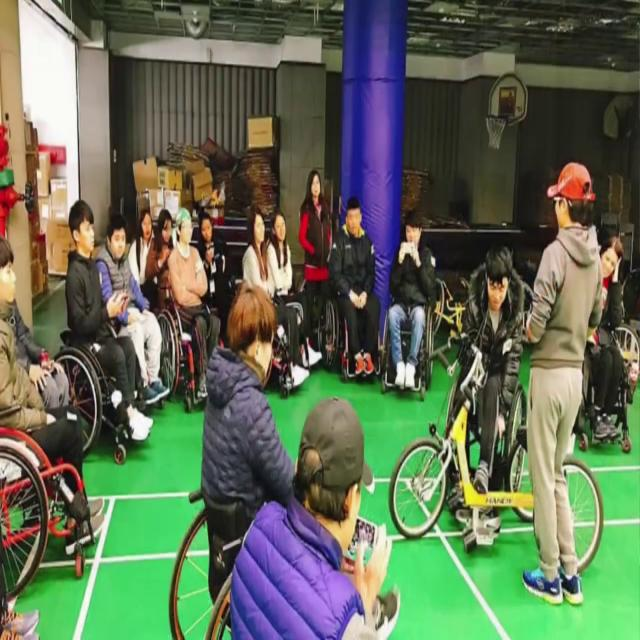wheelchairs: (158, 438, 370, 640), (0, 372, 107, 618), (438, 307, 528, 527), (50, 303, 164, 474), (148, 271, 234, 424), (316, 250, 384, 392), (372, 277, 442, 405)
